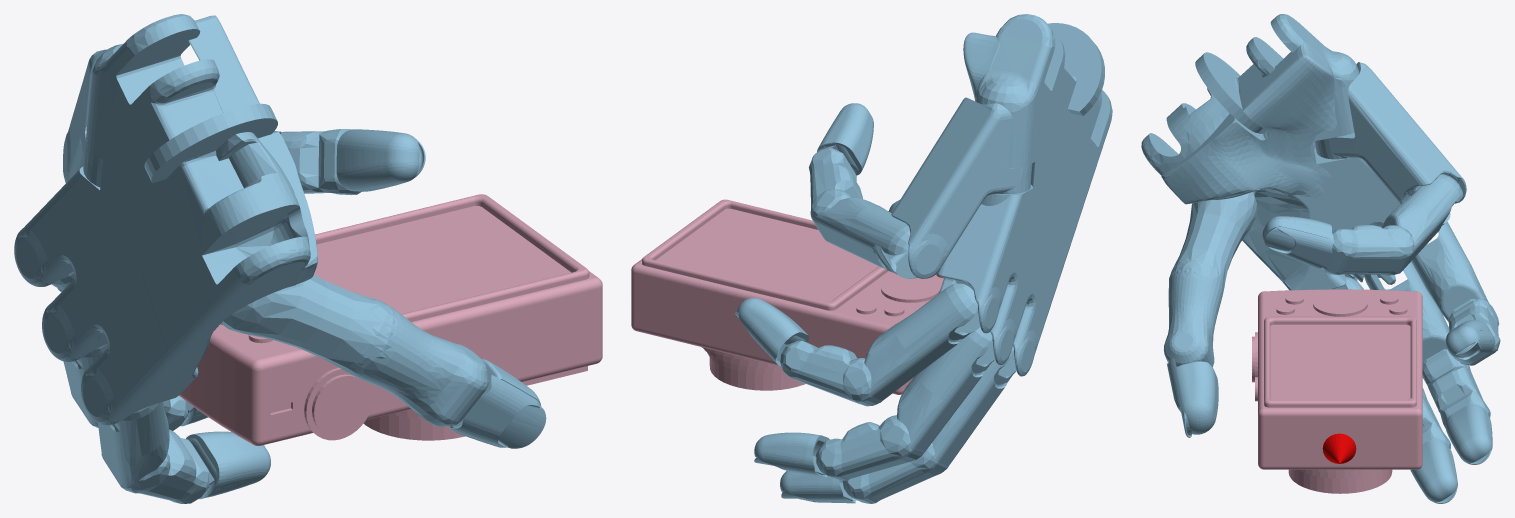
3 views of the same model, side by side, from view 1: azimuth 30°, elevation 25°; view 2: azimuth 150°, elevation 25°; view 3: azimuth 270°, elevation 25° (orthographic). The views are drawn at different scales.
Visible parts, largest first — view 1: world, camera.stl; view 2: world, camera.stl; view 3: world, camera.stl.
Boxes of the visible parts, left/top/right/bottom form: world: left=14, top=14, right=546, bottom=503; camera.stl: left=179, top=194, right=602, bottom=445; world: left=734, top=14, right=1112, bottom=503; camera.stl: left=631, top=199, right=944, bottom=394; world: left=1141, top=14, right=1500, bottom=503; camera.stl: left=1252, top=289, right=1422, bottom=493.
Bounding box in the file's own units: 0.167 × 0.1815 × 0.1411.
